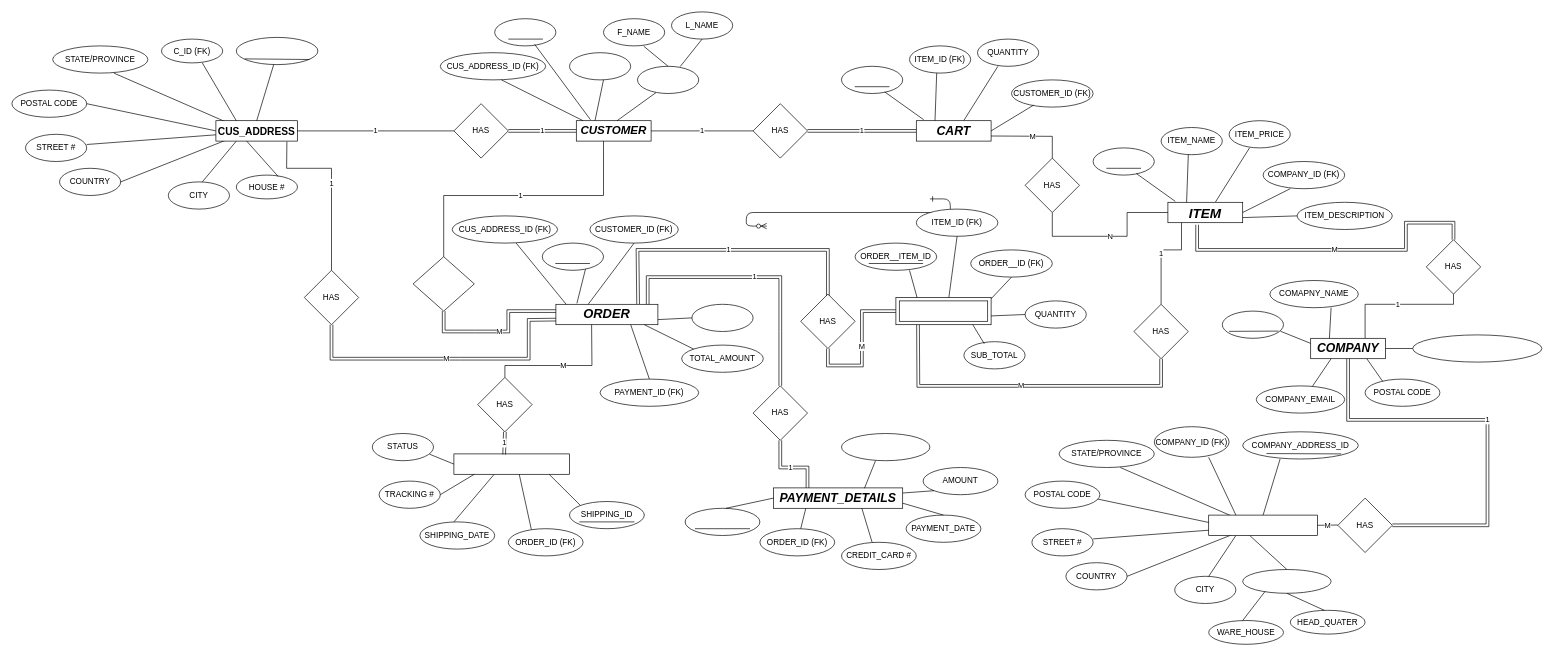
Image size: 1554x656. Some labels were removed from this diagram. The shapes that lost their labels are listed below. From the top down, each one's centre as x and y in pixels, then its label:
At [277,51]: "CUS_ADDRESS_ID".
At [525,32]: "C_ID".
At [600,66]: "C_EMAIL".
At [668,80]: "C_NAME".
At [872,80]: "CART_ID".
At [1123,161]: "ITEM_ID".
At [573,256]: "ORDER_ID".
At [443,283]: "CAN PLACE".
At [722,318]: "ORDER_DATE".
At [943,311]: "ORDER_ITEMS".
At [1253,324]: "COMPANY_ID".
At [1477,348]: "COMPANY_ADDRESS_ID (FK)".
At [511,463]: "SHIPPING_DETAILS".
At [885,447]: "PAYMENT_STATUS".
At [722,522]: "PAYMENT_ID".
At [1263,525]: "COMPANY_ADDRESS".
At [1286,581]: "ADDRESS_TYPE".
